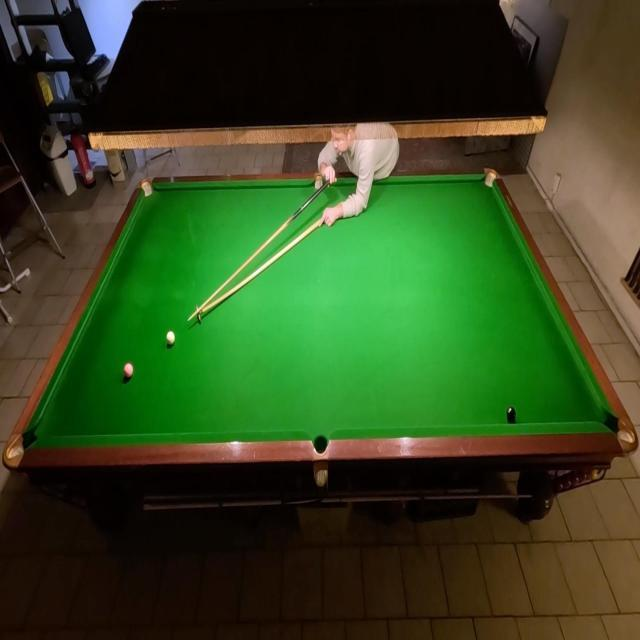Ball: (506, 406, 518, 426), (123, 362, 134, 379), (166, 330, 176, 348)
Pocket: (6, 427, 38, 469), (603, 414, 636, 452), (312, 434, 329, 456), (482, 171, 498, 190), (140, 182, 154, 198), (313, 173, 325, 190)
